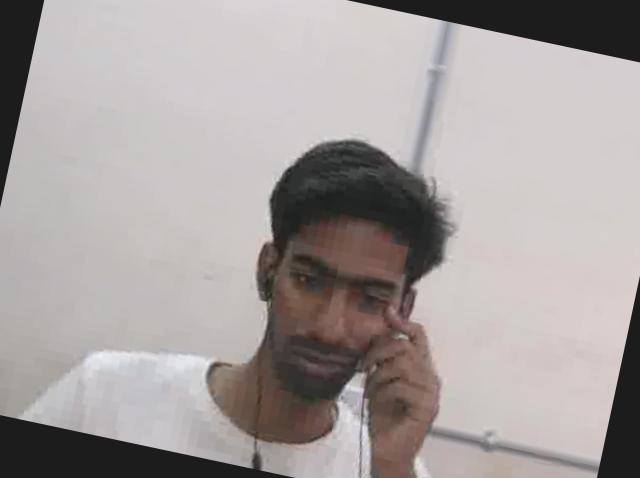bosan: (248, 209, 417, 407)
